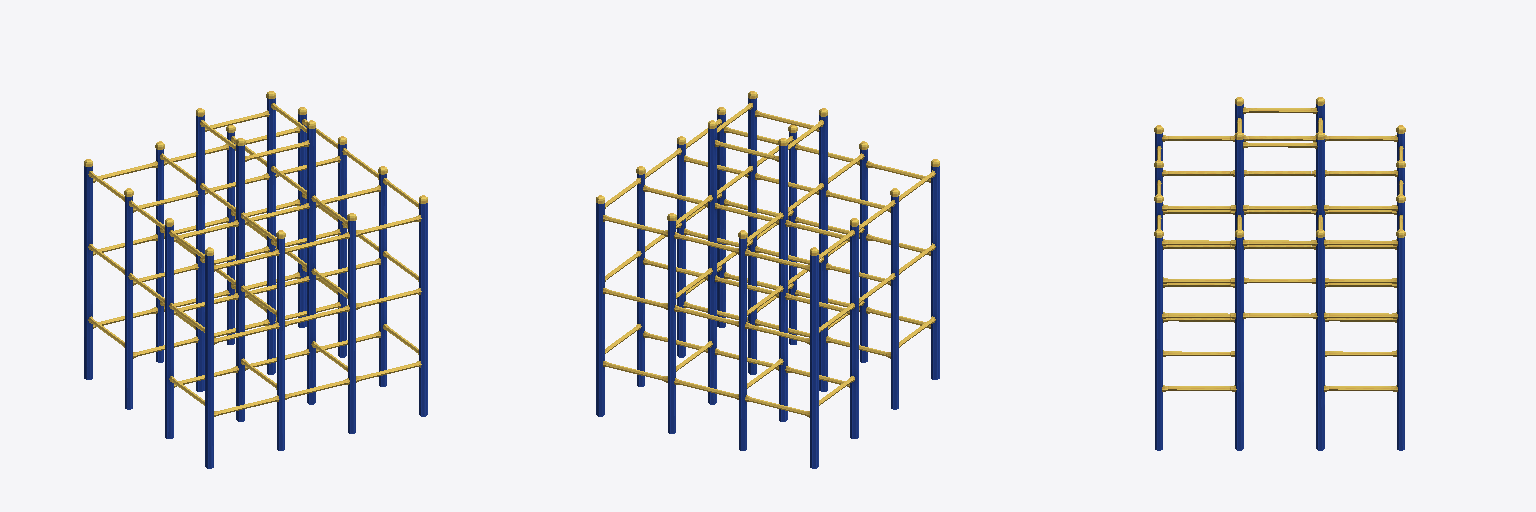
3 renders of one model, left to right at view 1: azimuth 30°, elevation 25°; view 2: azimuth 150°, elevation 25°; view 3: azimuth 270°, elevation 25°, orthographic.
Parts seen in each view (by area): view 1: polySurface8; view 2: polySurface8; view 3: polySurface8.
Part boxes in pixels (x1,y1,x2,y2): polySurface8: (84,91,427,468); polySurface8: (596,91,939,468); polySurface8: (1154,97,1405,450).
Bounding box in the file's own units: 9.5 × 11.58 × 9.38.
Materials: 1 (1 with a texture image).